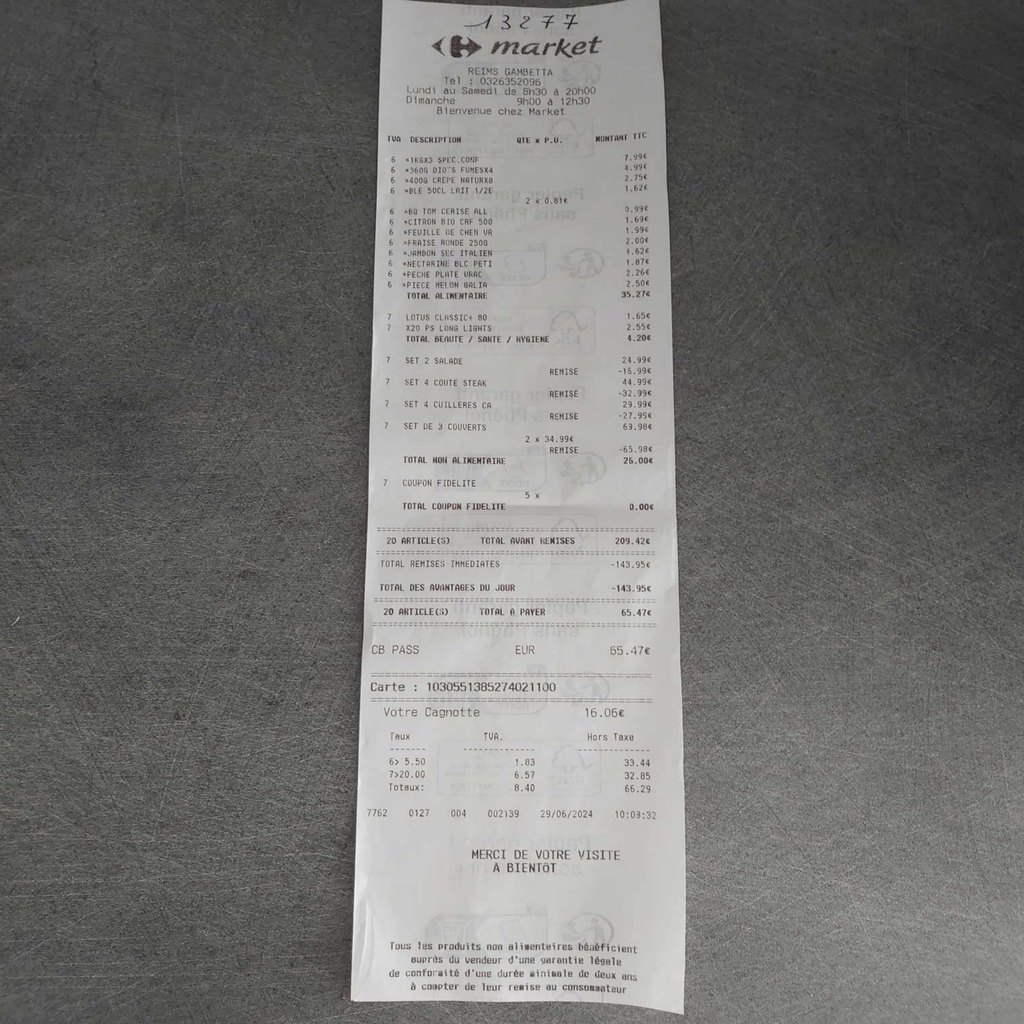recipt: (352, 0, 689, 1009)
